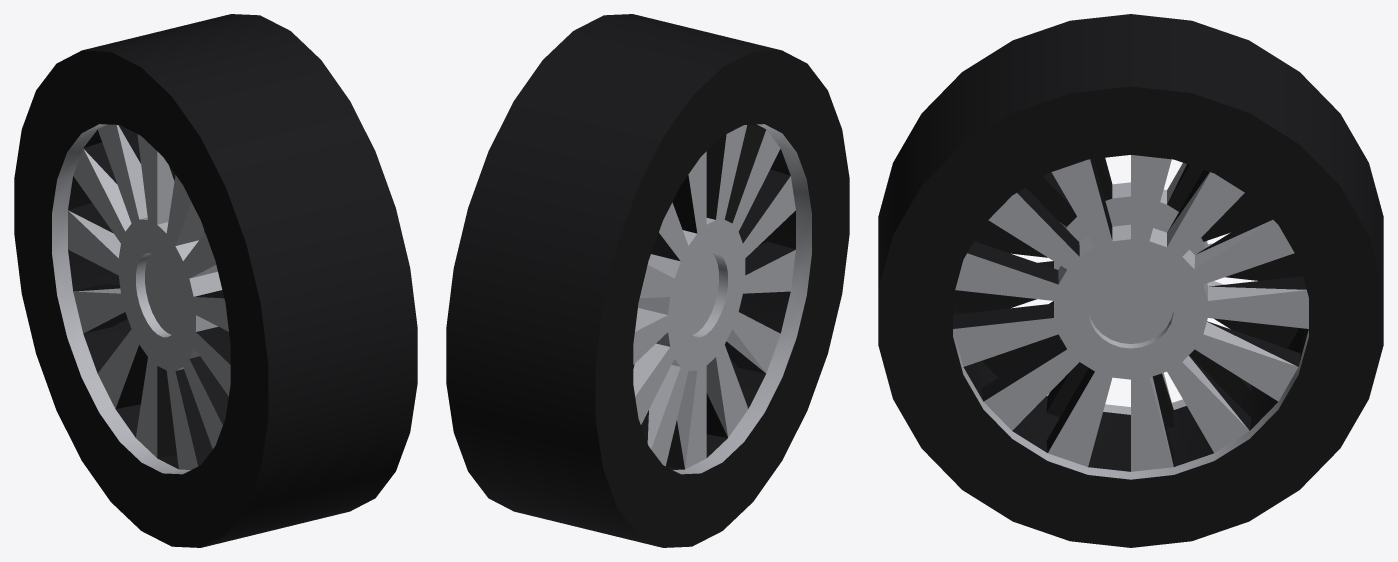
File: lancer_evo_wheel.obj
The picture shows the model from 3 angles, left to right: view 1: azimuth 30°, elevation 25°; view 2: azimuth 150°, elevation 25°; view 3: azimuth 270°, elevation 25°; orthographic projection.
Parts seen in each view (by area): view 1: lancer_evo_wheel; view 2: lancer_evo_wheel; view 3: lancer_evo_wheel.
Part boxes in pixels (x1,y1,x2,y2): lancer_evo_wheel: (14, 14, 417, 547); lancer_evo_wheel: (446, 14, 849, 547); lancer_evo_wheel: (878, 14, 1383, 547).
Size of the model in its own units: 20.23 by 60 by 59.56.
1 material, 1 textured.
